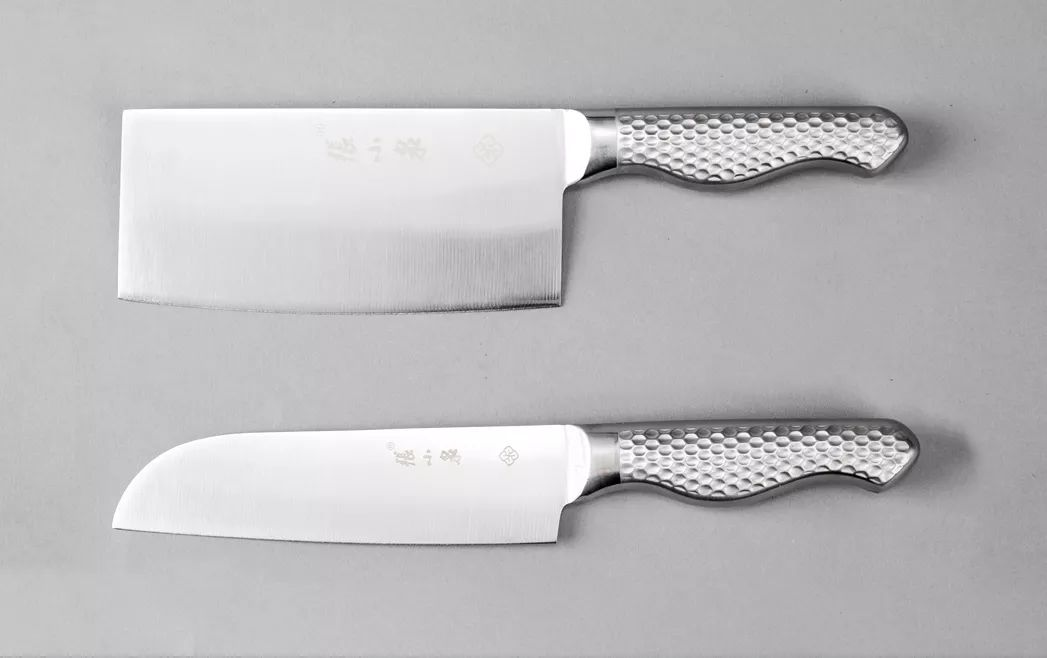knief: (81, 74, 939, 317), (93, 399, 979, 550)
